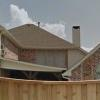Chimney: (65, 17, 88, 53)
